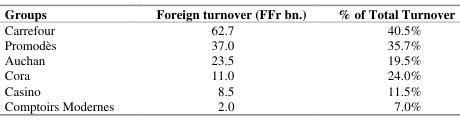table: (3, 4, 454, 113)
table column: (134, 4, 321, 113), (321, 4, 454, 113), (3, 4, 134, 113)
table column header: (3, 4, 454, 21)
table row: (3, 4, 454, 21), (3, 66, 454, 82), (3, 97, 454, 113), (3, 21, 454, 36), (3, 36, 454, 51), (3, 51, 454, 66), (3, 82, 454, 97)
